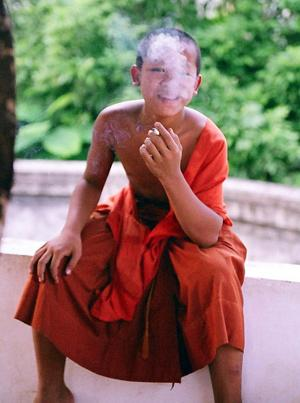person: (15, 24, 247, 403)
